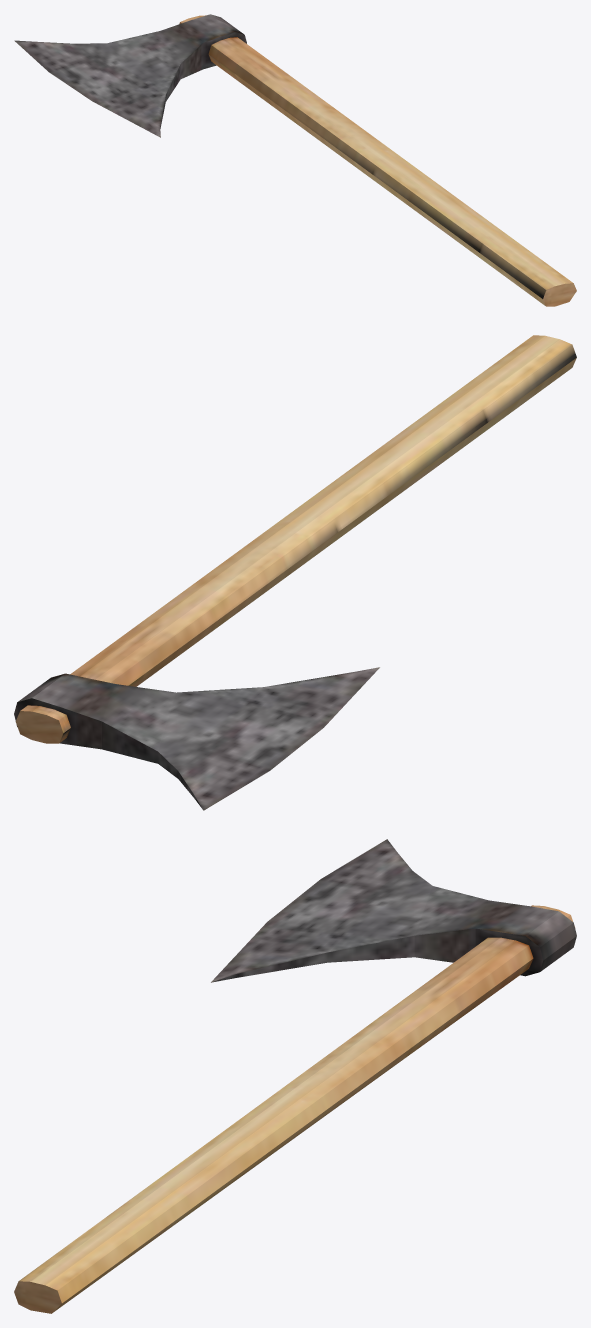
Rendered from axe.dae.
The picture shows the model from 3 angles, top to bottom: view 1: azimuth 30°, elevation 25°; view 2: azimuth 150°, elevation 25°; view 3: azimuth 330°, elevation 25°; orthographic projection. The views are drawn at different scales.
Parts seen in each view (by area): view 1: Cylinder01; view 2: Cylinder01; view 3: Cylinder01.
Part boxes in pixels (box(x1,y1,x2,y2)): Cylinder01: box(14, 14, 576, 306); Cylinder01: box(14, 335, 576, 810); Cylinder01: box(14, 839, 576, 1313).
Bounding box in the file's own units: 2.01 × 7.75 × 0.3089.
1 material, 1 textured.
